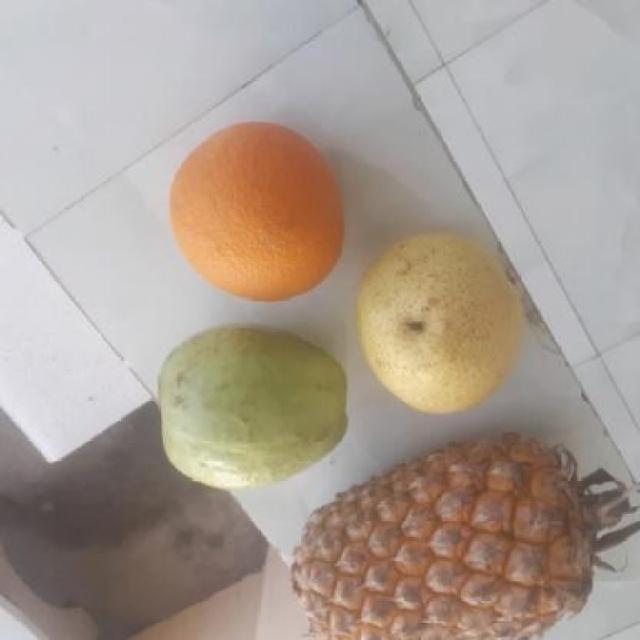guava: (160, 325, 360, 484)
oren: (168, 124, 354, 301)
pear: (355, 237, 527, 412)
pineapple: (295, 435, 620, 639)
